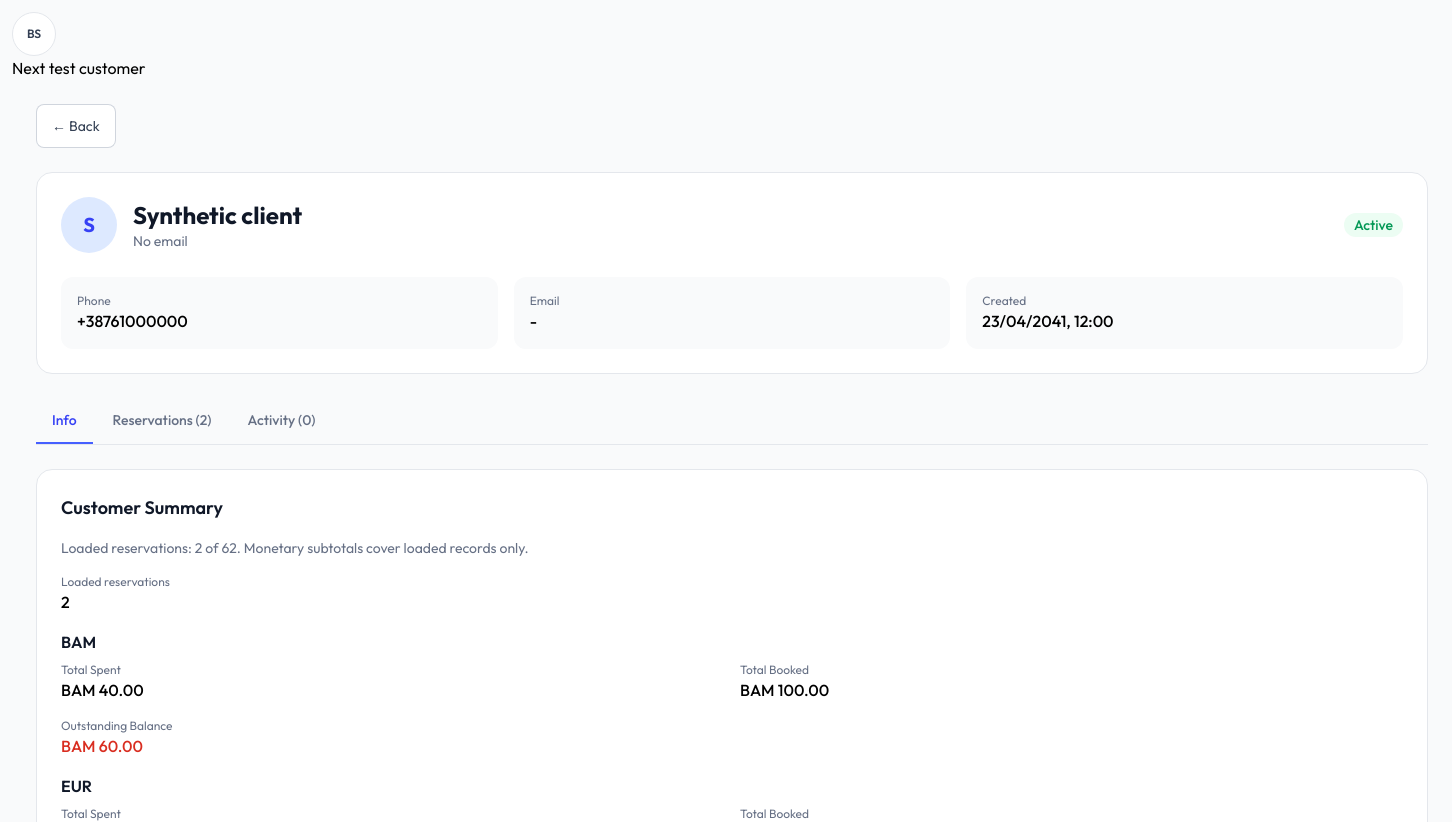
Test: switches all screen labels and money without refetching customer data
This screenshot has width=1452, height=822.
Check: the heading "Synthetic client" is shown, box x1=133 y1=199 x2=302 y2=231
Check: the heading "Customer Summary" is shown, box x1=61 y1=496 x2=223 y2=519
Step 1. Click the button with aria-label "Switch to Bosnian" → point(34, 34), box x1=12 y1=12 x2=56 y2=56
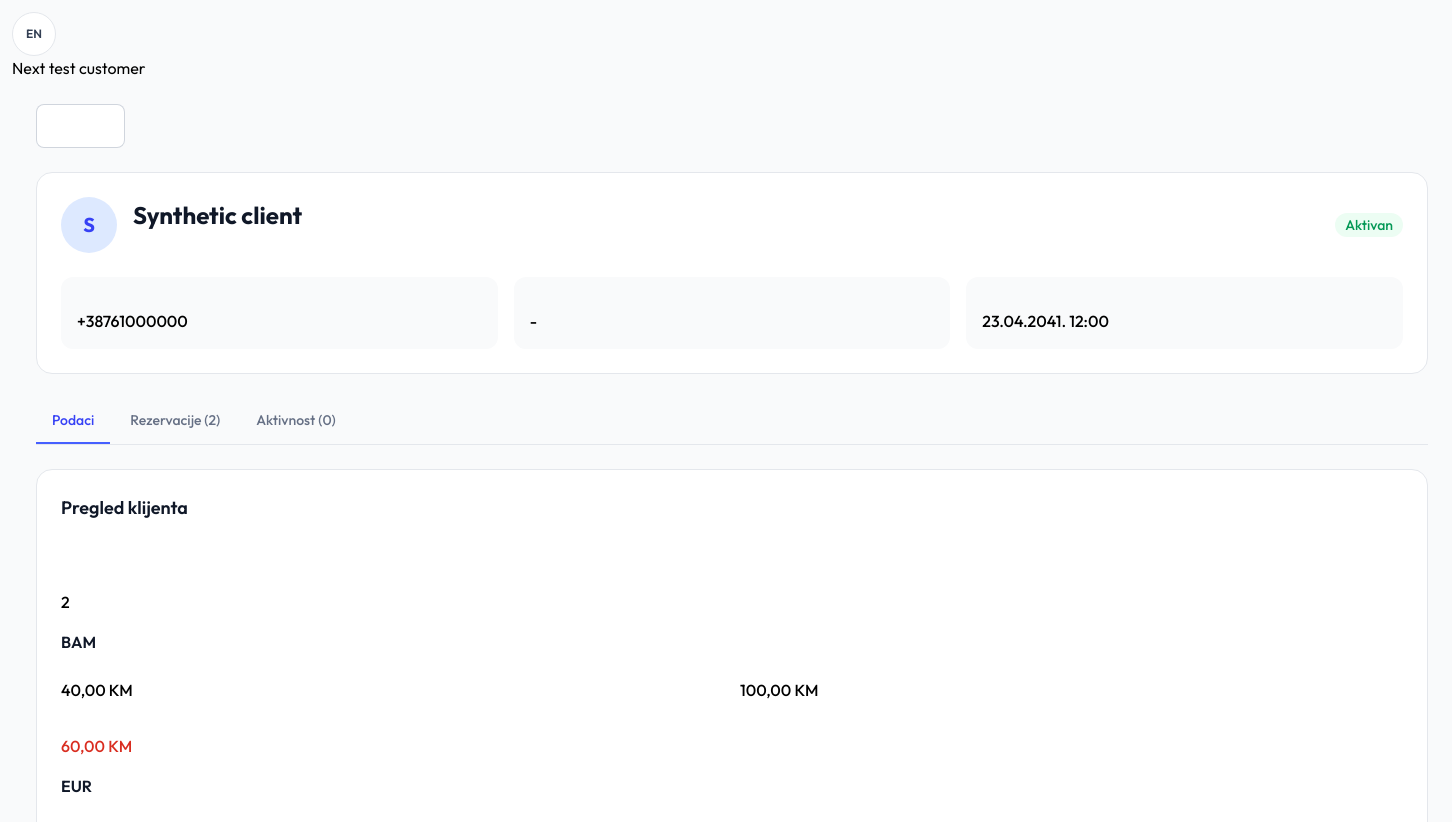
Check: the heading "Pregled klijenta" is shown, box x1=61 y1=496 x2=188 y2=519
Check: the text "100,00 KM" is shown, box x1=740 y1=680 x2=818 y2=700
Check: the heading "Customer Summary" is gone
